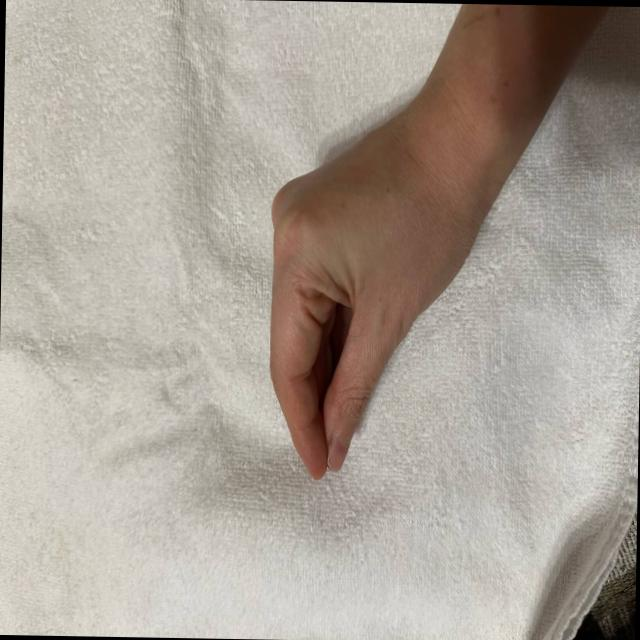zh: (248, 143, 458, 496)
